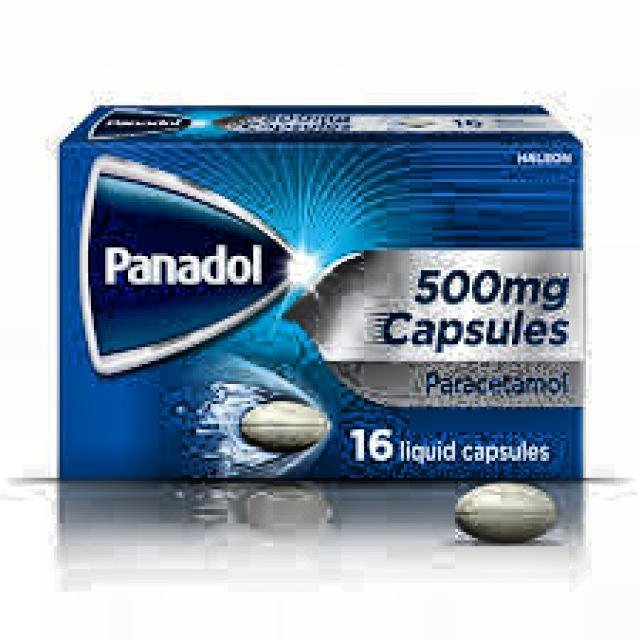Crocin: (71, 156, 374, 412)
